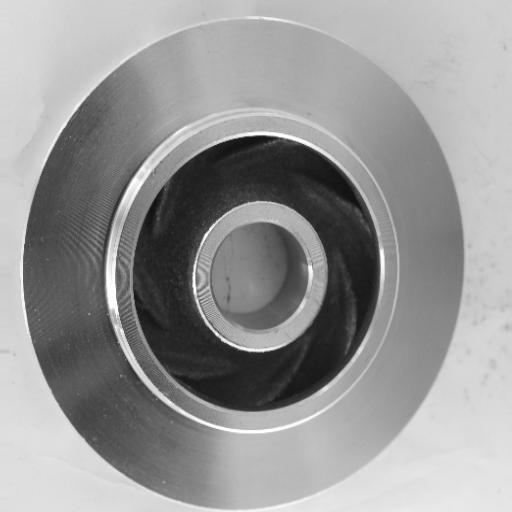polished_casting: (18, 18, 466, 512)
